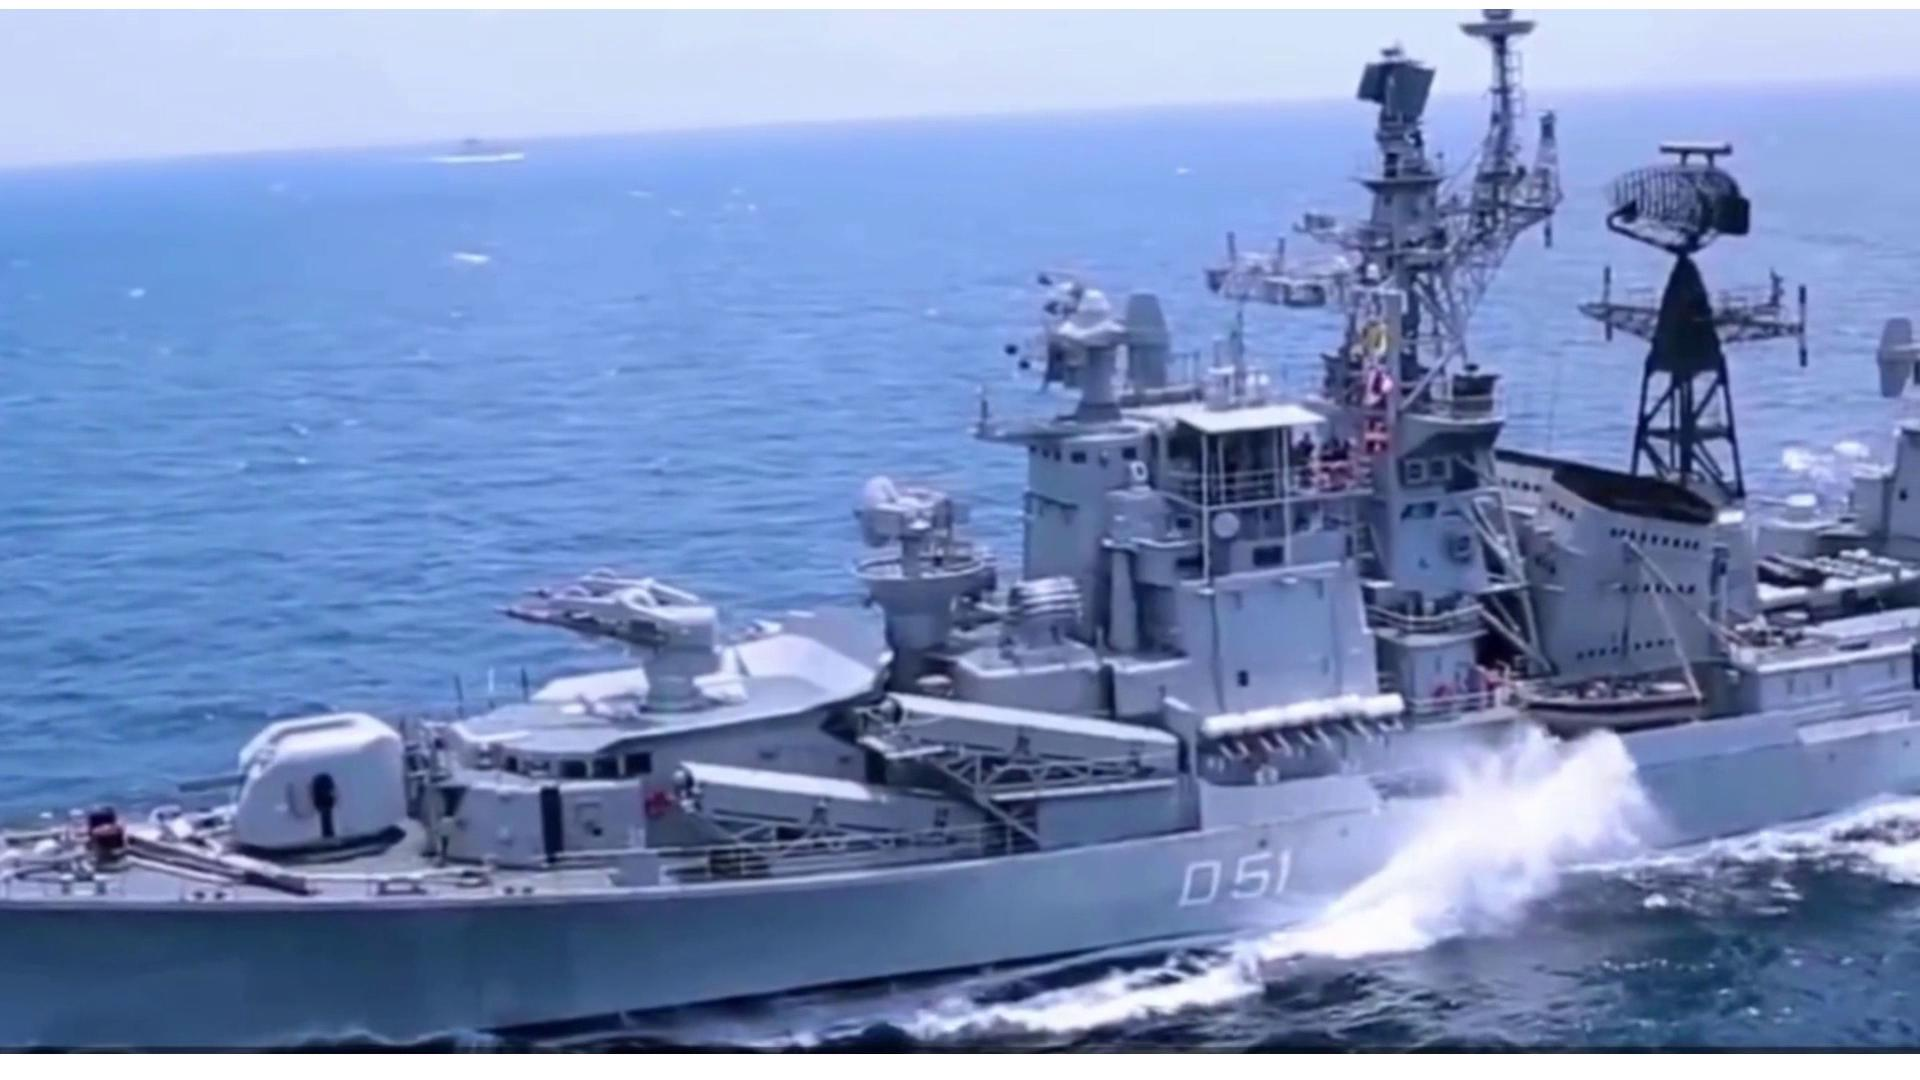OCR: (1150, 842, 1288, 927)
